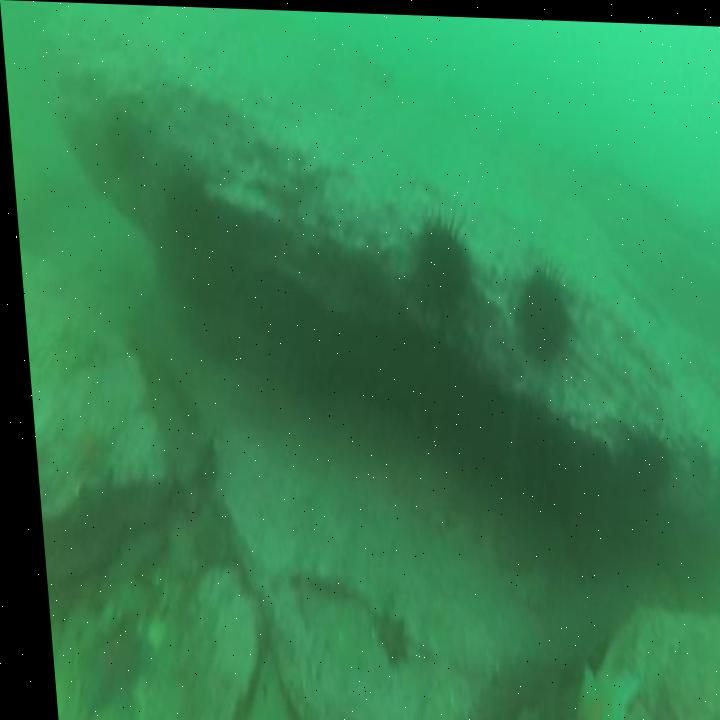echinus: (503, 249, 578, 375), (403, 200, 476, 326), (153, 163, 221, 267), (611, 417, 669, 502), (98, 109, 147, 192), (702, 441, 720, 528)
holothurian: (20, 306, 103, 374)
starfish: (56, 606, 142, 720), (549, 648, 633, 720), (52, 422, 113, 493), (359, 599, 406, 674)
